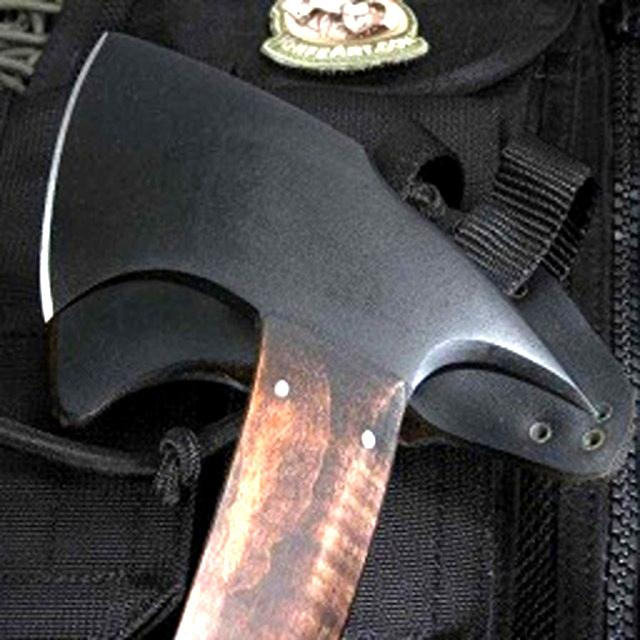ax: (29, 16, 608, 640)
